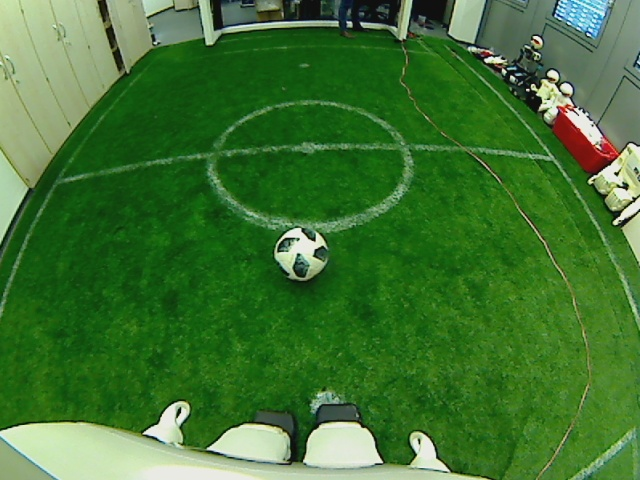ball: (272, 226, 330, 282)
